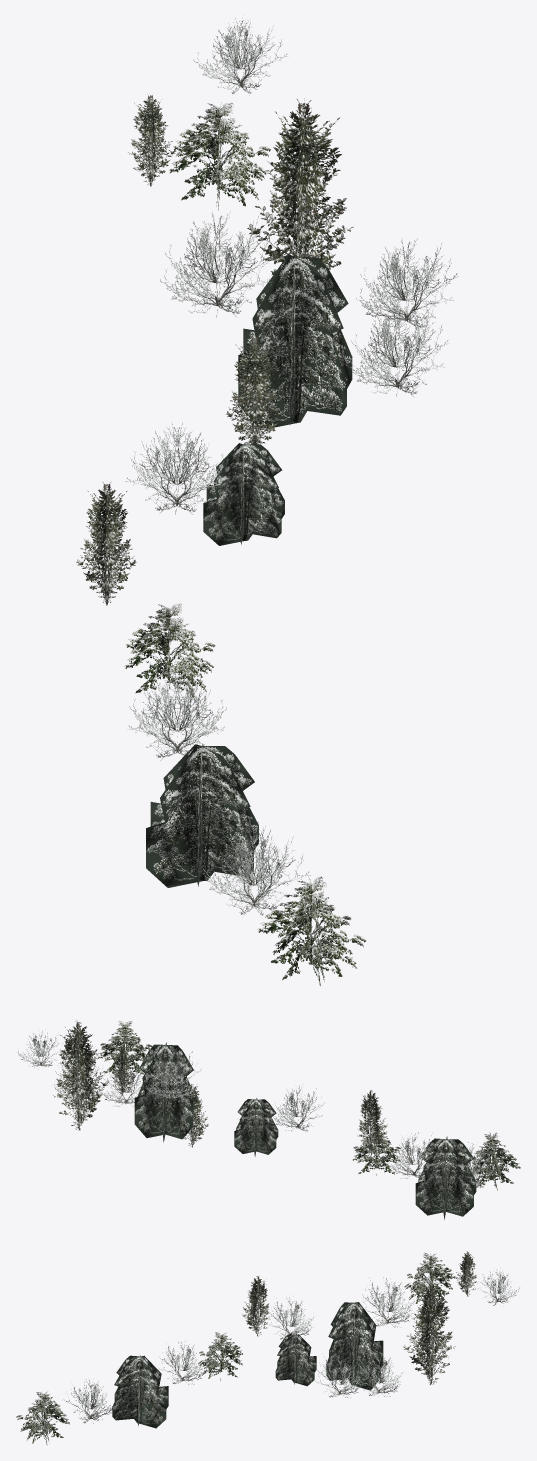
The picture shows the model from 3 angles, top to bottom: view 1: azimuth 30°, elevation 25°; view 2: azimuth 150°, elevation 25°; view 3: azimuth 270°, elevation 25°; orthographic projection. The views are drawn at different scales.
Visible parts, largest first — view 1: mesh2, mesh3, mesh1, mesh0; view 2: mesh2, mesh1, mesh3, mesh0; view 3: mesh2, mesh3, mesh1, mesh0.
Part boxes in pixels (left/top/right/bottom): mesh2: left=146, top=254, right=352, bottom=887; mesh3: left=125, top=17, right=457, bottom=916; mesh1: left=76, top=94, right=353, bottom=605; mesh0: left=124, top=102, right=366, bottom=985; mesh2: left=134, top=1042, right=476, bottom=1219; mesh1: left=53, top=1020, right=387, bottom=1155; mesh3: left=18, top=1030, right=500, bottom=1188; mesh0: left=98, top=1020, right=520, bottom=1190; mesh2: left=112, top=1302, right=383, bottom=1428; mesh3: left=63, top=1269, right=519, bottom=1423; mesh1: left=242, top=1251, right=477, bottom=1384; mesh0: left=16, top=1252, right=455, bottom=1444.
Size of the model in its own units: 21.01 by 19.47 by 33.72.
